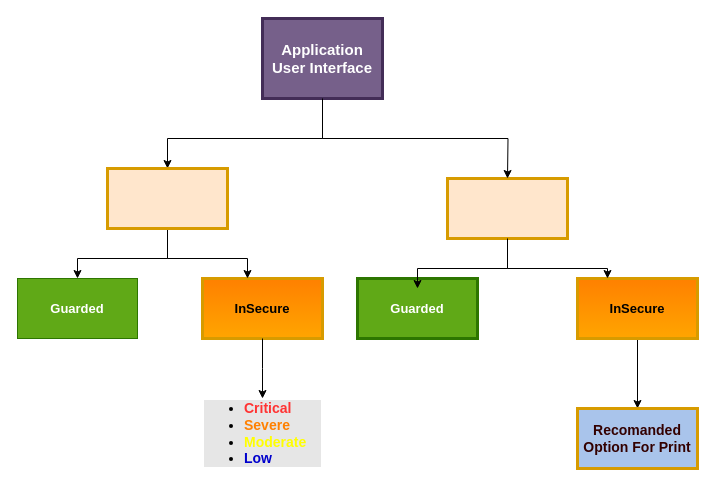
Some shapes in this 716 by 498 pixel diagram are drawn without their labels. Each missing label, with the centre of its shape:
Admin View: the point at 167,198
Customer View: the point at 507,208
